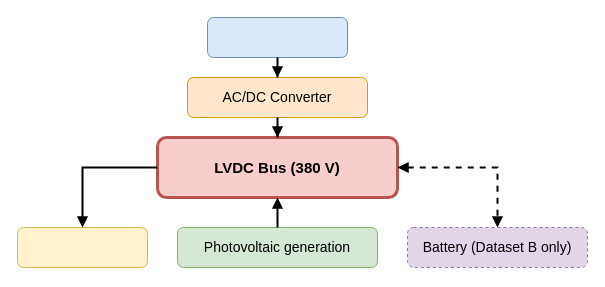
Some shapes in this 605 by 287 pixel diagram are drawn without their labels. The shapes that lost their labels are listed below. From the top down, each one's centre as x and y in pixels, then its label:
At pixel 277 37: "AC Grid".
At pixel 82 247: "Loads".
